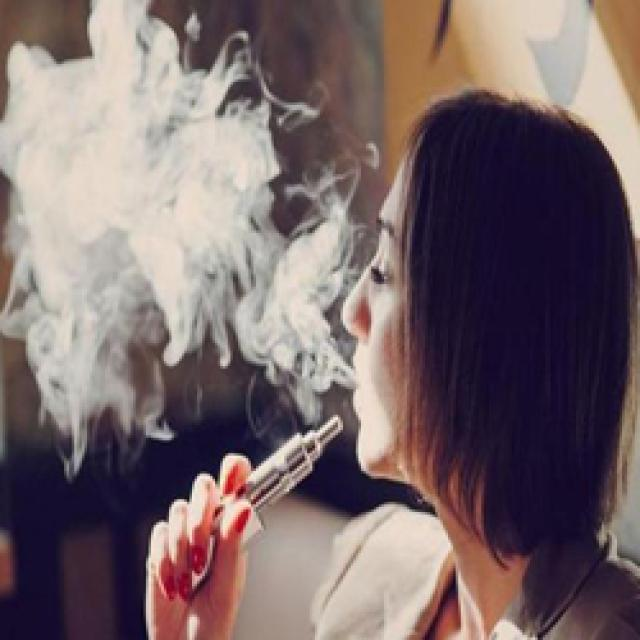Smooking: (174, 372, 348, 566)
